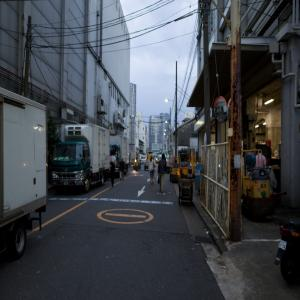Vehicle-registration-plate: (278, 240, 287, 251), (65, 182, 70, 188)
